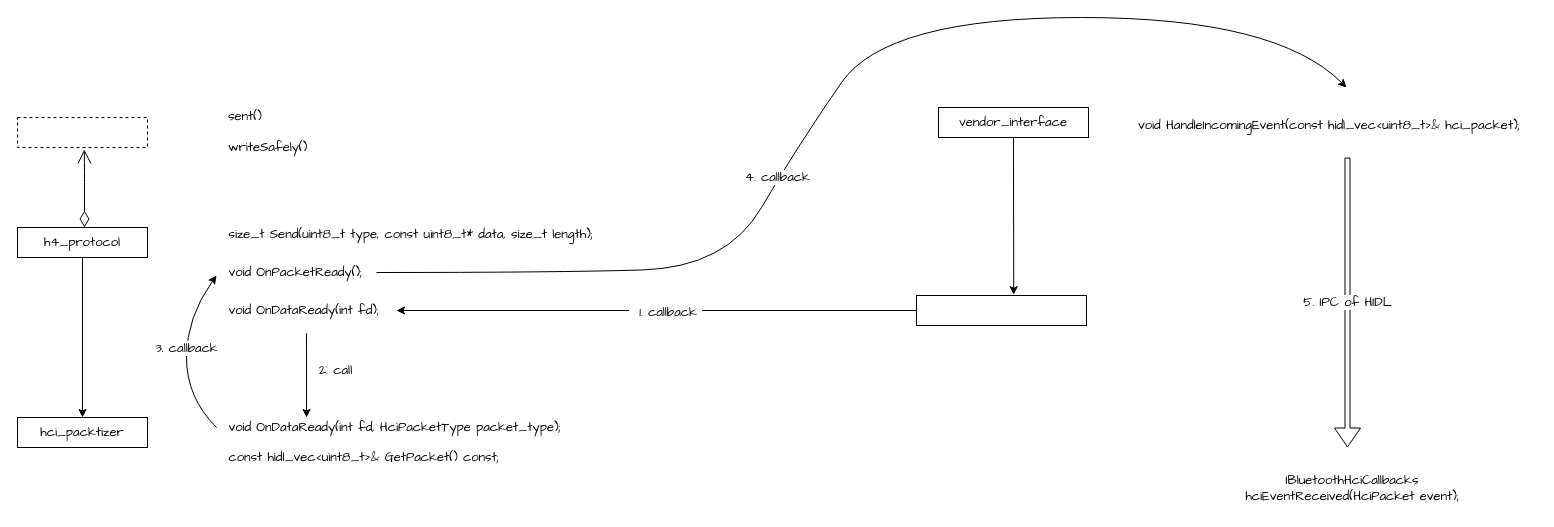
Some shapes in this 1554 by 527 pixel diagram are drawn without their labels. The box of each missing label's shape, as (x1, y1, x2, y2) in pixels:
async_fd_watcher: (916, 294, 1086, 326)
hci_protocol: (16, 116, 148, 148)
